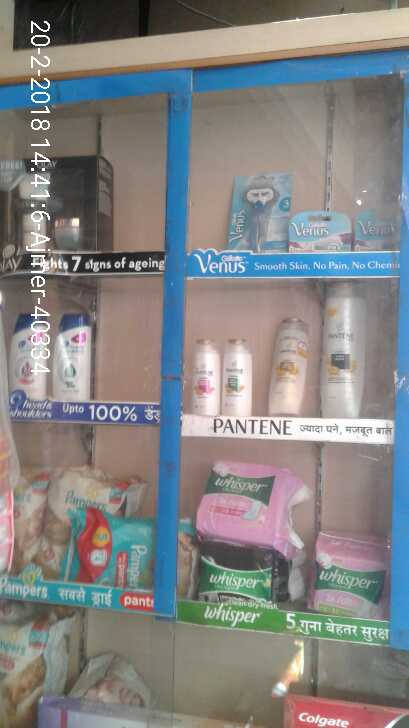venus: (232, 177, 290, 254), (290, 211, 356, 254), (356, 211, 396, 247)
